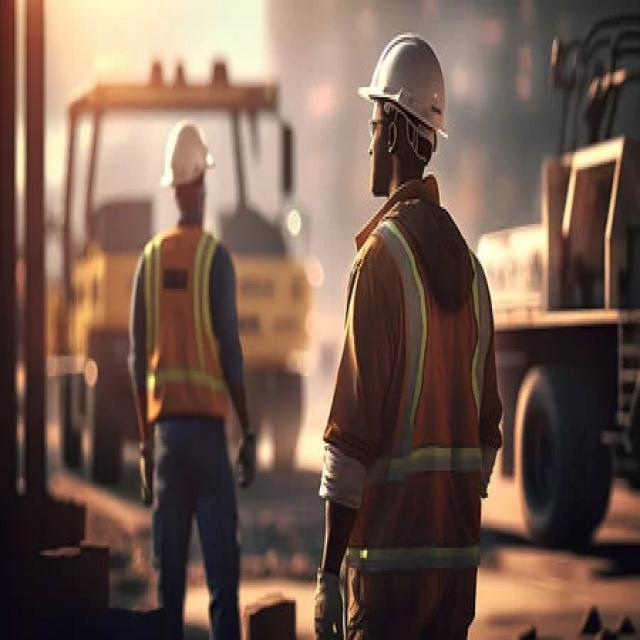Reflective-Jacket: (313, 197, 508, 628), (121, 219, 252, 471)
Safety-Helmet: (354, 25, 457, 149), (152, 110, 218, 202)
